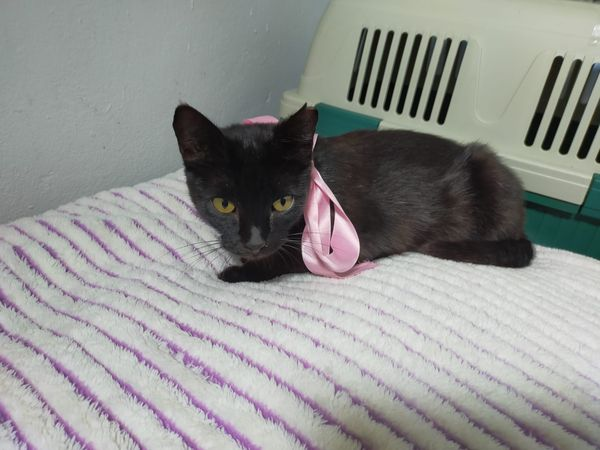cat: (154, 82, 550, 300)
